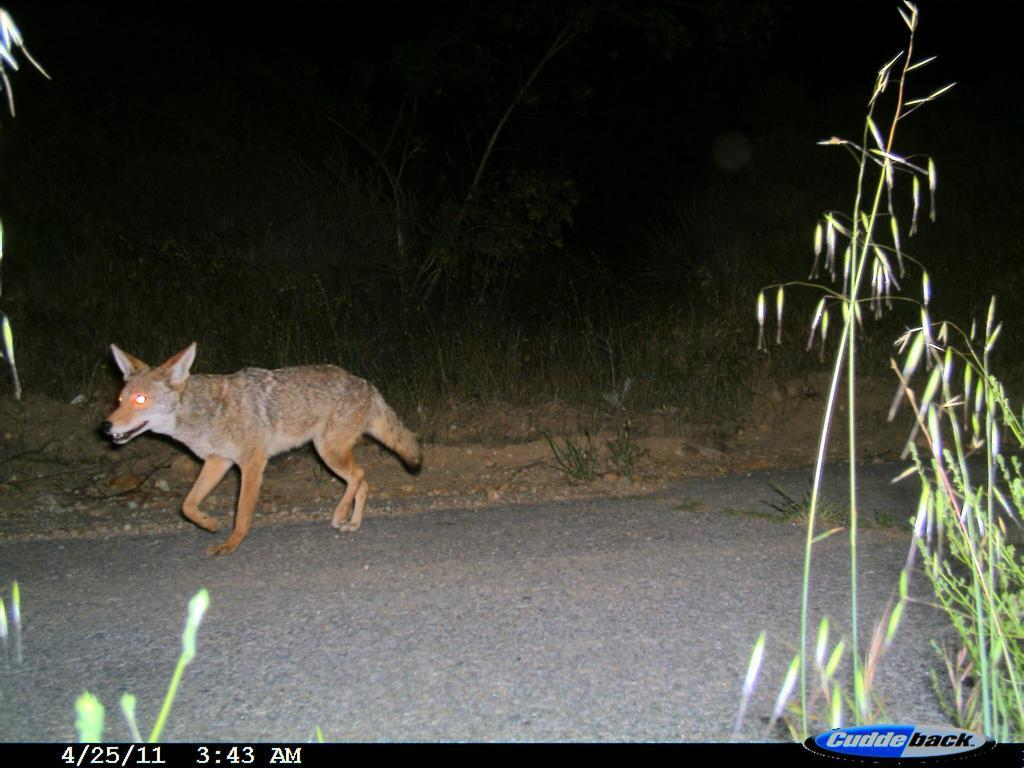coyote: (76, 335, 459, 548)
